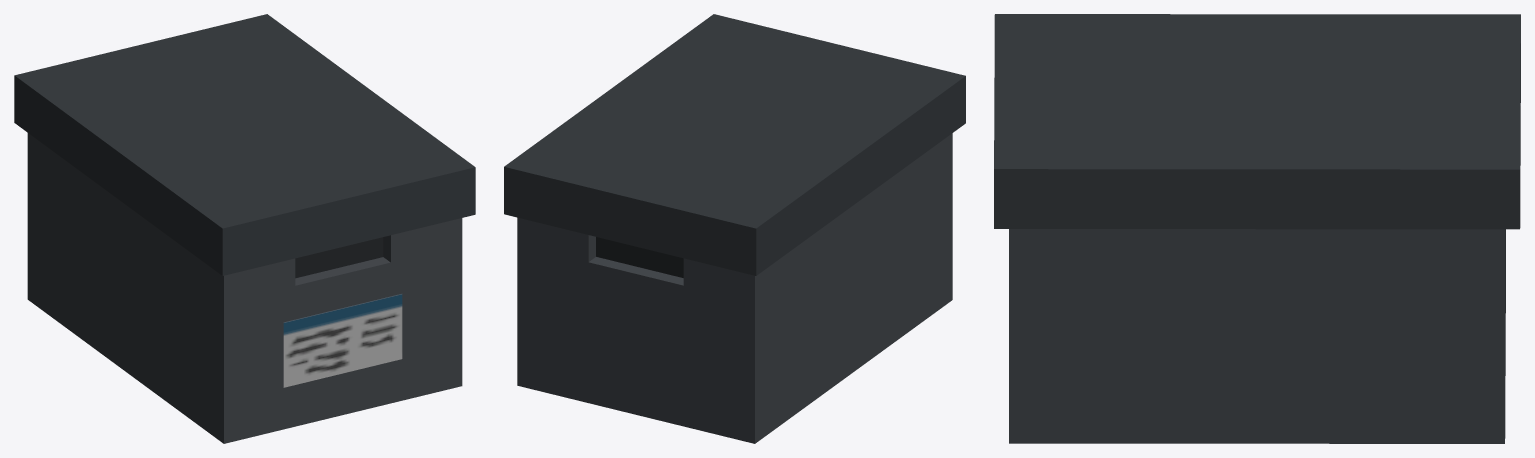
Rendered from SM_Prop_CardboardBox_02.obj.
3 views of the same model, side by side, from view 1: azimuth 30°, elevation 25°; view 2: azimuth 150°, elevation 25°; view 3: azimuth 270°, elevation 25° (orthographic). The views are drawn at different scales.
Visible parts, largest first — view 1: SM_Prop_CardboardBox_02_M_PolygonOffice_01_A; view 2: SM_Prop_CardboardBox_02_M_PolygonOffice_01_A; view 3: SM_Prop_CardboardBox_02_M_PolygonOffice_01_A.
Part boxes in pixels (x1,y1,x2,y2): SM_Prop_CardboardBox_02_M_PolygonOffice_01_A: [14, 14, 475, 443]; SM_Prop_CardboardBox_02_M_PolygonOffice_01_A: [504, 14, 965, 443]; SM_Prop_CardboardBox_02_M_PolygonOffice_01_A: [994, 14, 1520, 443].
Bounding box in the file's own units: 0.3296 × 0.2754 × 0.4717.
